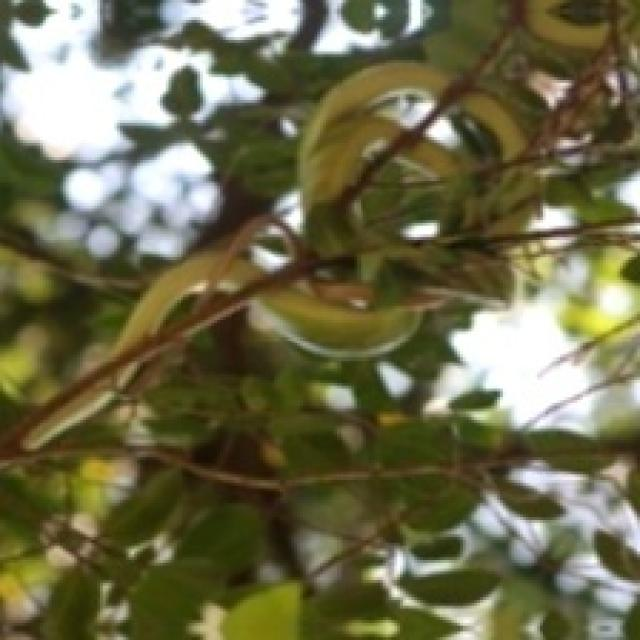red-tailed green ratsnake: (0, 63, 546, 454)
